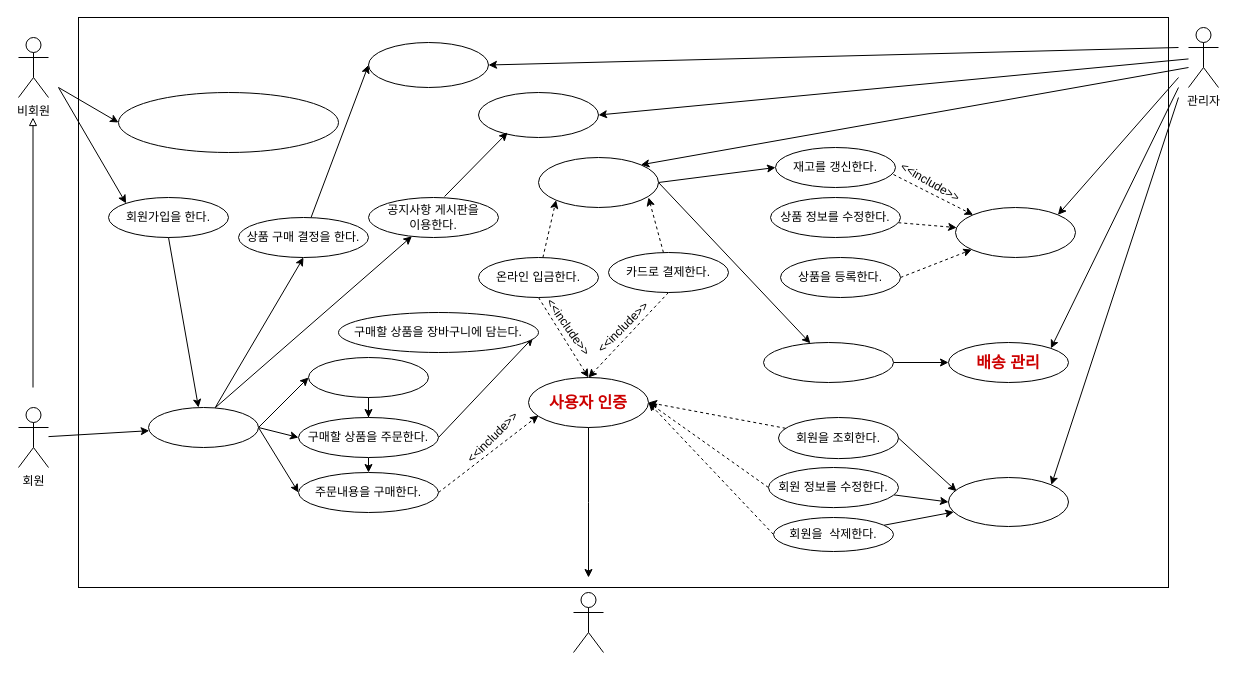
This 1237x691 diagram has some shape labels left out. Here are the shapes that lost their labels. From the top down, the centre of each, then its label:
At (x=428, y=65): "이용후기 관리".
At (x=228, y=122): "공지사항, 상품 목록, 상품 검색, 장바구니 담기 기능을 이용한다.".
At (x=538, y=115): "공지사항 관리".
At (x=598, y=182): "결제 관리".
At (x=1015, y=232): "상품 관리".
At (x=368, y=377): "상품을 검색한다.".
At (x=828, y=362): "배송정보가 발생한다.".
At (x=203, y=427): "로그인을 한다.".
At (x=1008, y=501): "회원 관리".
At (x=588, y=622): "인증회사".
